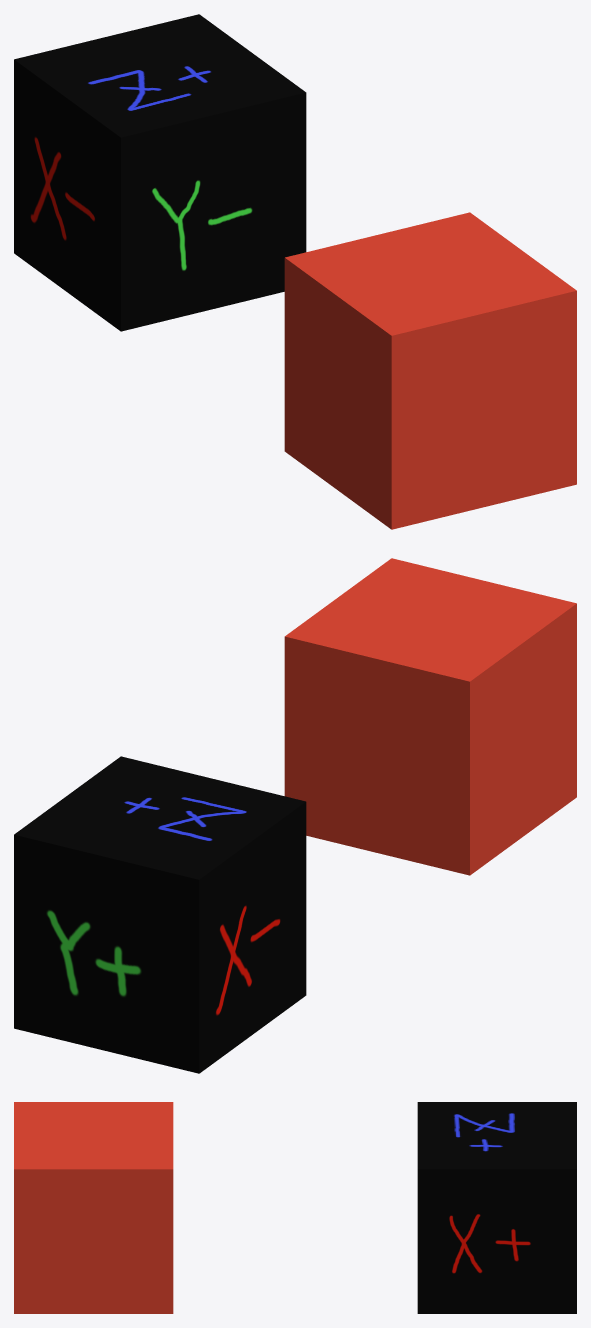
Rendered from TwoBoxes.fbx.
3 renders of one model, top to bottom at view 1: azimuth 30°, elevation 25°; view 2: azimuth 150°, elevation 25°; view 3: azimuth 270°, elevation 25°, orthographic. The views are drawn at different scales.
Visible parts, largest first — view 1: Cube, Cube.001; view 2: Cube.001, Cube; view 3: Cube, Cube.001.
Boxes of the visible parts, x1=… form: Cube: x1=284, y1=212, x2=576, y2=529; Cube.001: x1=14, y1=14, x2=306, y2=331; Cube.001: x1=14, y1=756, x2=306, y2=1073; Cube: x1=284, y1=558, x2=576, y2=875; Cube: x1=14, y1=1102, x2=173, y2=1313; Cube.001: x1=417, y1=1102, x2=576, y2=1313.
Size of the model in its own units: 200 by 200 by 706.
Materials: 2 (1 with a texture image).
